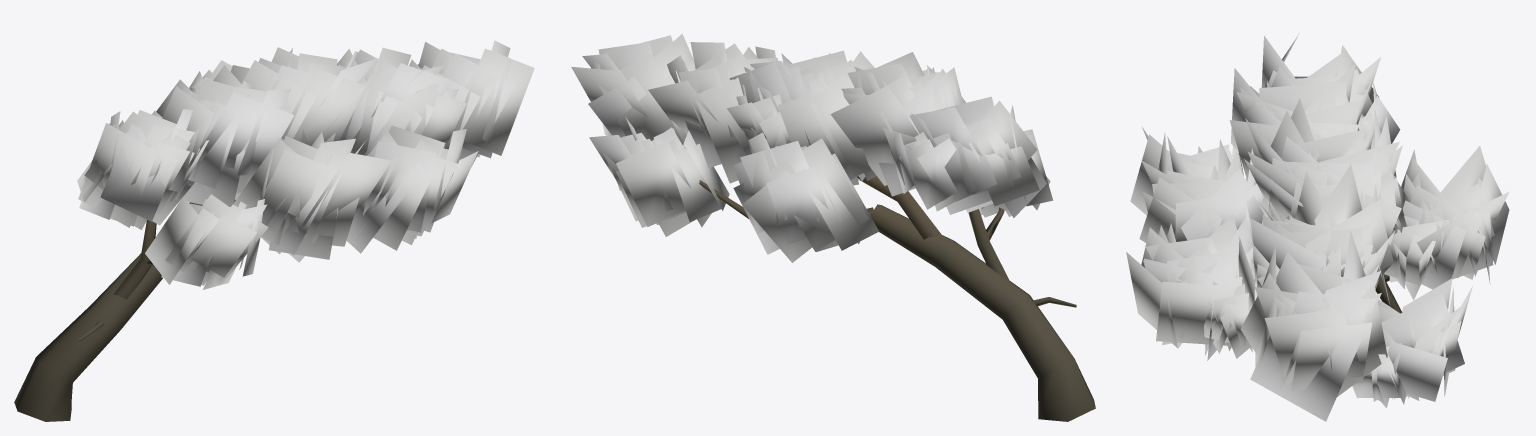
3 renders of one model, left to right at view 1: azimuth 30°, elevation 25°; view 2: azimuth 150°, elevation 25°; view 3: azimuth 270°, elevation 25°, orthographic. The views are drawn at different scales.
Parts seen in each view (by area): view 1: crown, trunk; view 2: crown, trunk; view 3: crown, trunk.
Boxes of the visible parts, <box> form: crown: <box>77,40,534,289</box>; trunk: <box>14,200,235,421</box>; crown: <box>571,34,1053,262</box>; trunk: <box>699,176,1095,421</box>; crown: <box>1126,33,1509,421</box>; trunk: <box>1375,274,1402,313</box>.
Size of the model in its own units: 9.78 by 5.7 by 5.25.
